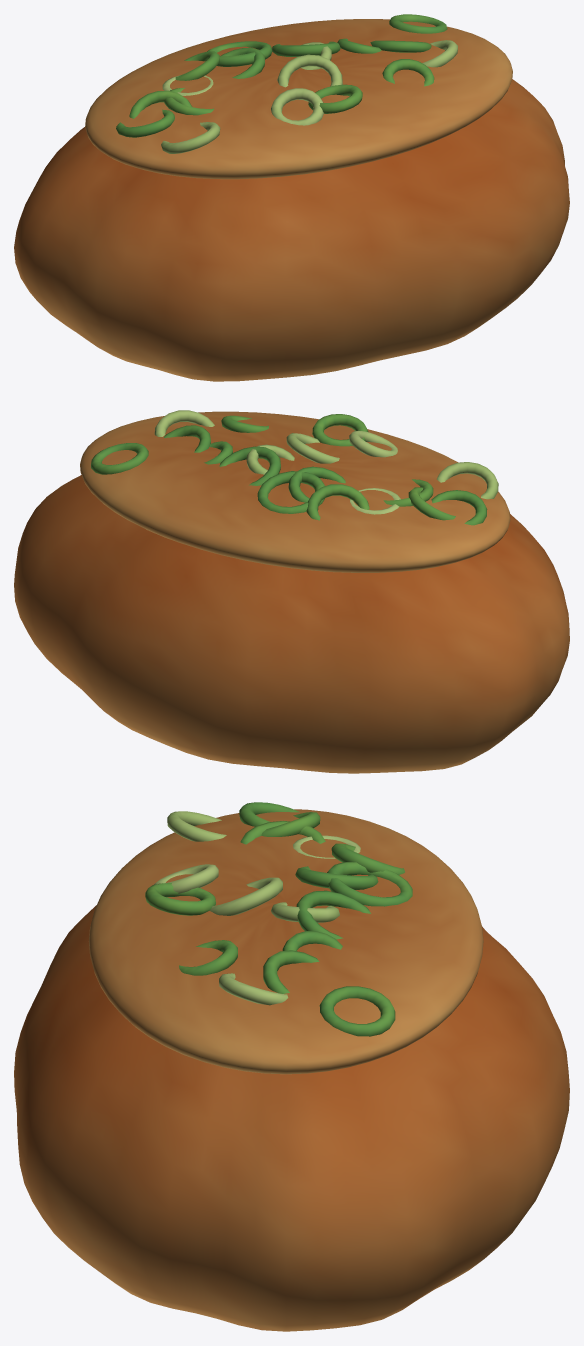
File: bread_negi.glb
3 renders of one model, top to bottom at view 1: azimuth 30°, elevation 25°; view 2: azimuth 150°, elevation 25°; view 3: azimuth 270°, elevation 25°, orthographic. The views are drawn at different scales.
Visible parts, largest first — view 1: ねぎパンの生地, 香ばしいみそチーズ, 小口切りのねぎ; view 2: ねぎパンの生地, 香ばしいみそチーズ, 小口切りのねぎ; view 3: ねぎパンの生地, 香ばしいみそチーズ, 小口切りのねぎ.
Part boxes in pixels (<box>): ねぎパンの生地: <box>14,79,569,381</box>; 香ばしいみそチーズ: <box>85,19,512,179</box>; 小口切りのねぎ: <box>116,14,457,153</box>; ねぎパンの生地: <box>14,475,569,773</box>; 香ばしいみそチーズ: <box>80,411,510,572</box>; 小口切りのねぎ: <box>91,410,498,525</box>; ねぎパンの生地: <box>14,905,569,1331</box>; 香ばしいみそチーズ: <box>88,809,483,1074</box>; 小口切りのねぎ: <box>145,802,412,1036</box>.
Bounding box in the file's own units: 0.9222 × 0.427 × 0.6647.
